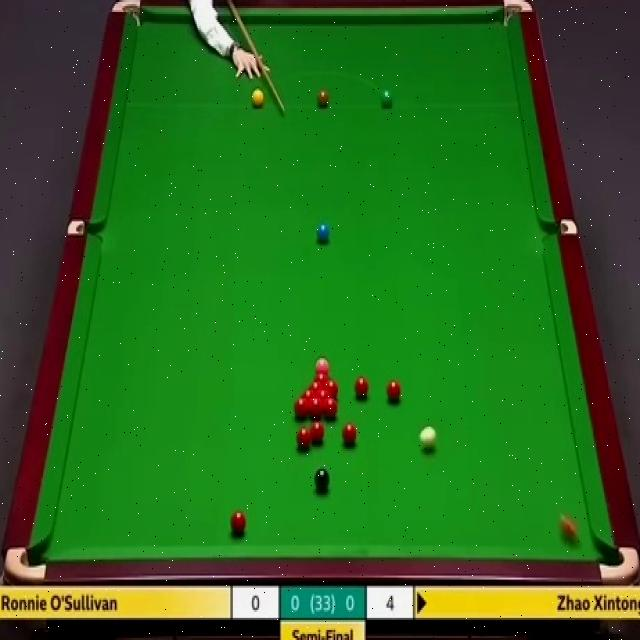black-ball: (314, 467, 330, 497)
blue-ball: (316, 224, 331, 246)
brown-ball: (316, 88, 329, 109)
green-ball: (380, 90, 394, 107)
pink-ball: (314, 356, 330, 369)
red-ball: (560, 512, 576, 541), (230, 511, 247, 538), (340, 423, 356, 448), (296, 427, 312, 451), (354, 375, 369, 400), (386, 379, 401, 404), (322, 398, 338, 417), (311, 421, 324, 444), (308, 398, 323, 417), (294, 399, 308, 418), (324, 379, 339, 396), (316, 387, 332, 400), (301, 389, 318, 399), (308, 380, 324, 390), (313, 371, 329, 380)
white-ball: (418, 425, 436, 452)
yellow-ball: (252, 87, 265, 108)
